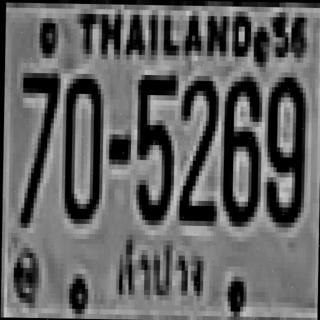N00: (61, 73, 101, 219)
N02: (176, 75, 216, 221)
N05: (134, 70, 174, 220)
N06: (220, 71, 260, 222)
N07: (18, 68, 58, 223), (18, 70, 58, 176)
N09: (263, 72, 303, 222)
P20: (110, 236, 212, 302)
